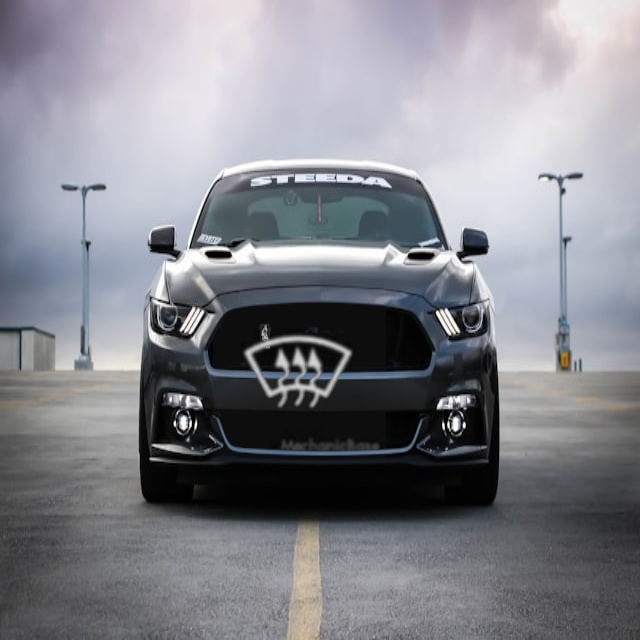symbol: (213, 287, 386, 460)
